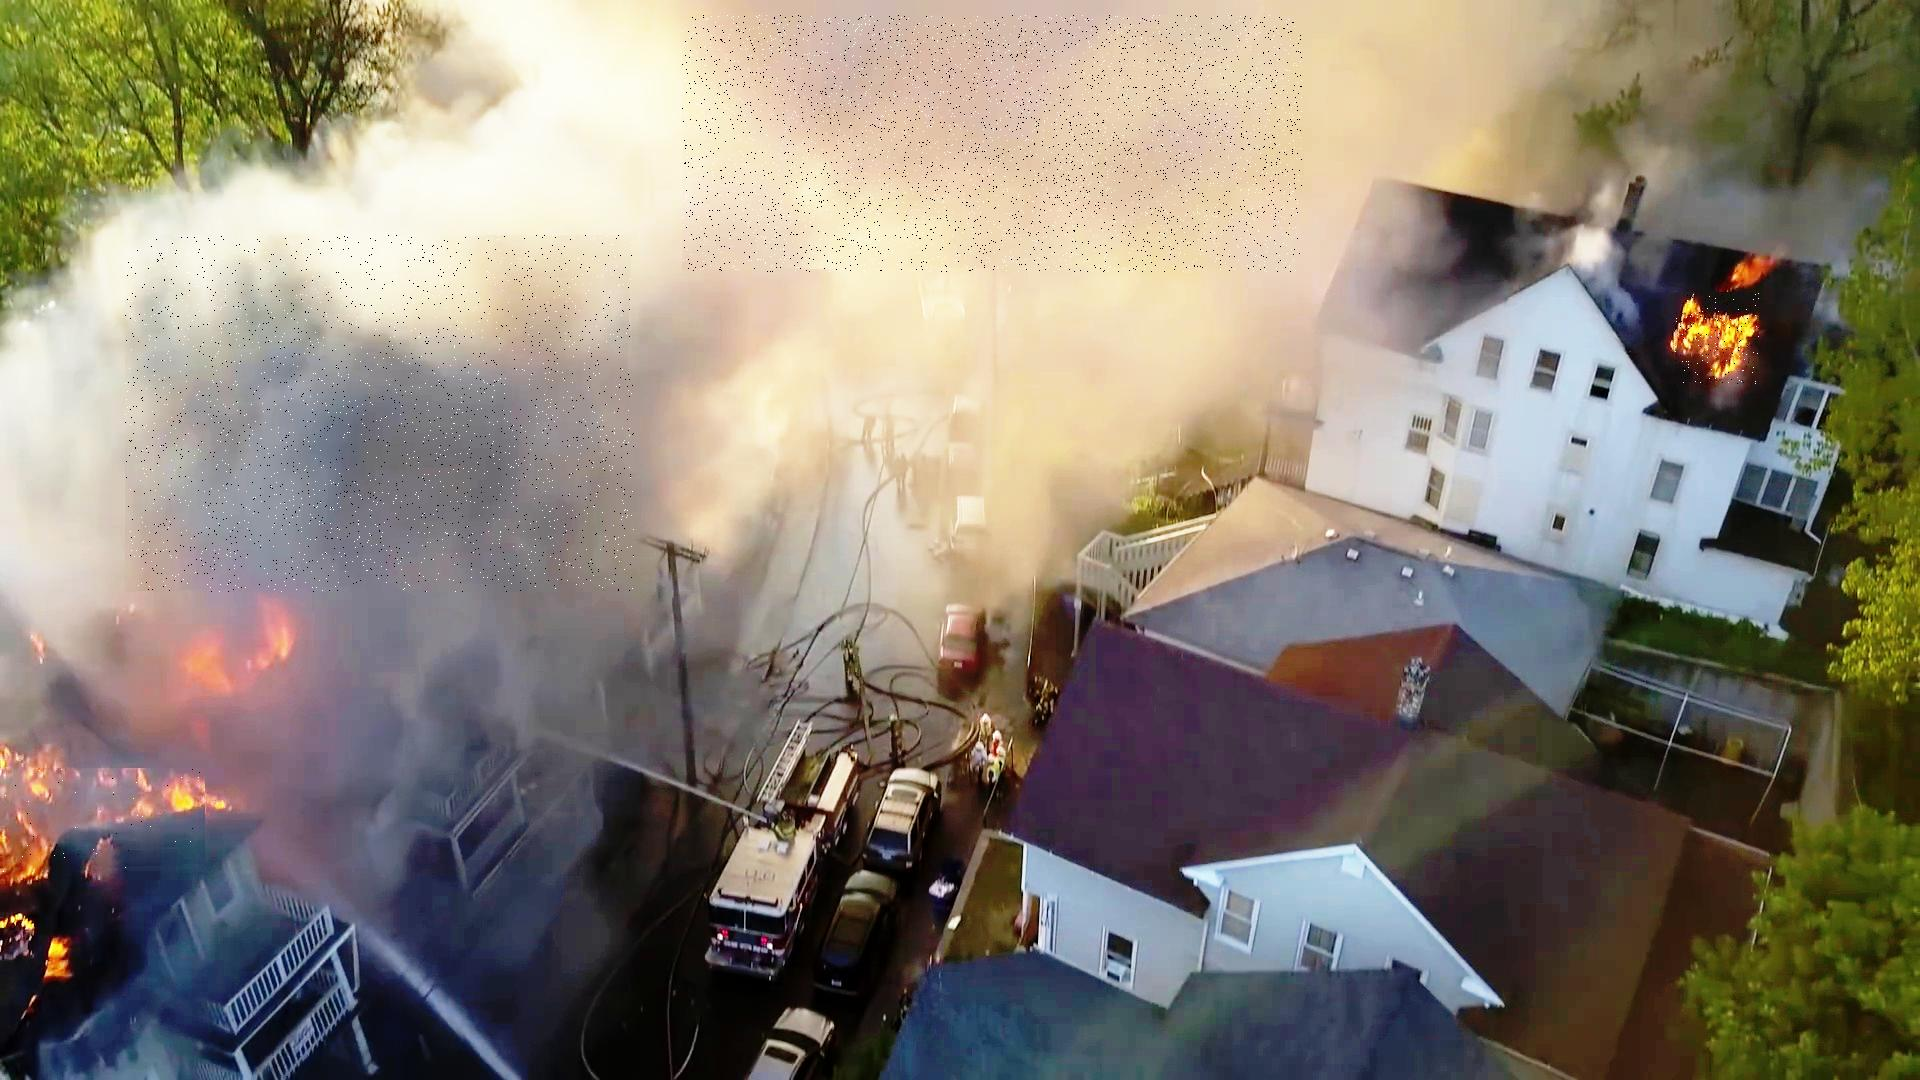fire: (0, 767, 204, 874), (1675, 293, 1759, 385)
smoke: (125, 236, 634, 592), (683, 16, 1303, 273)
